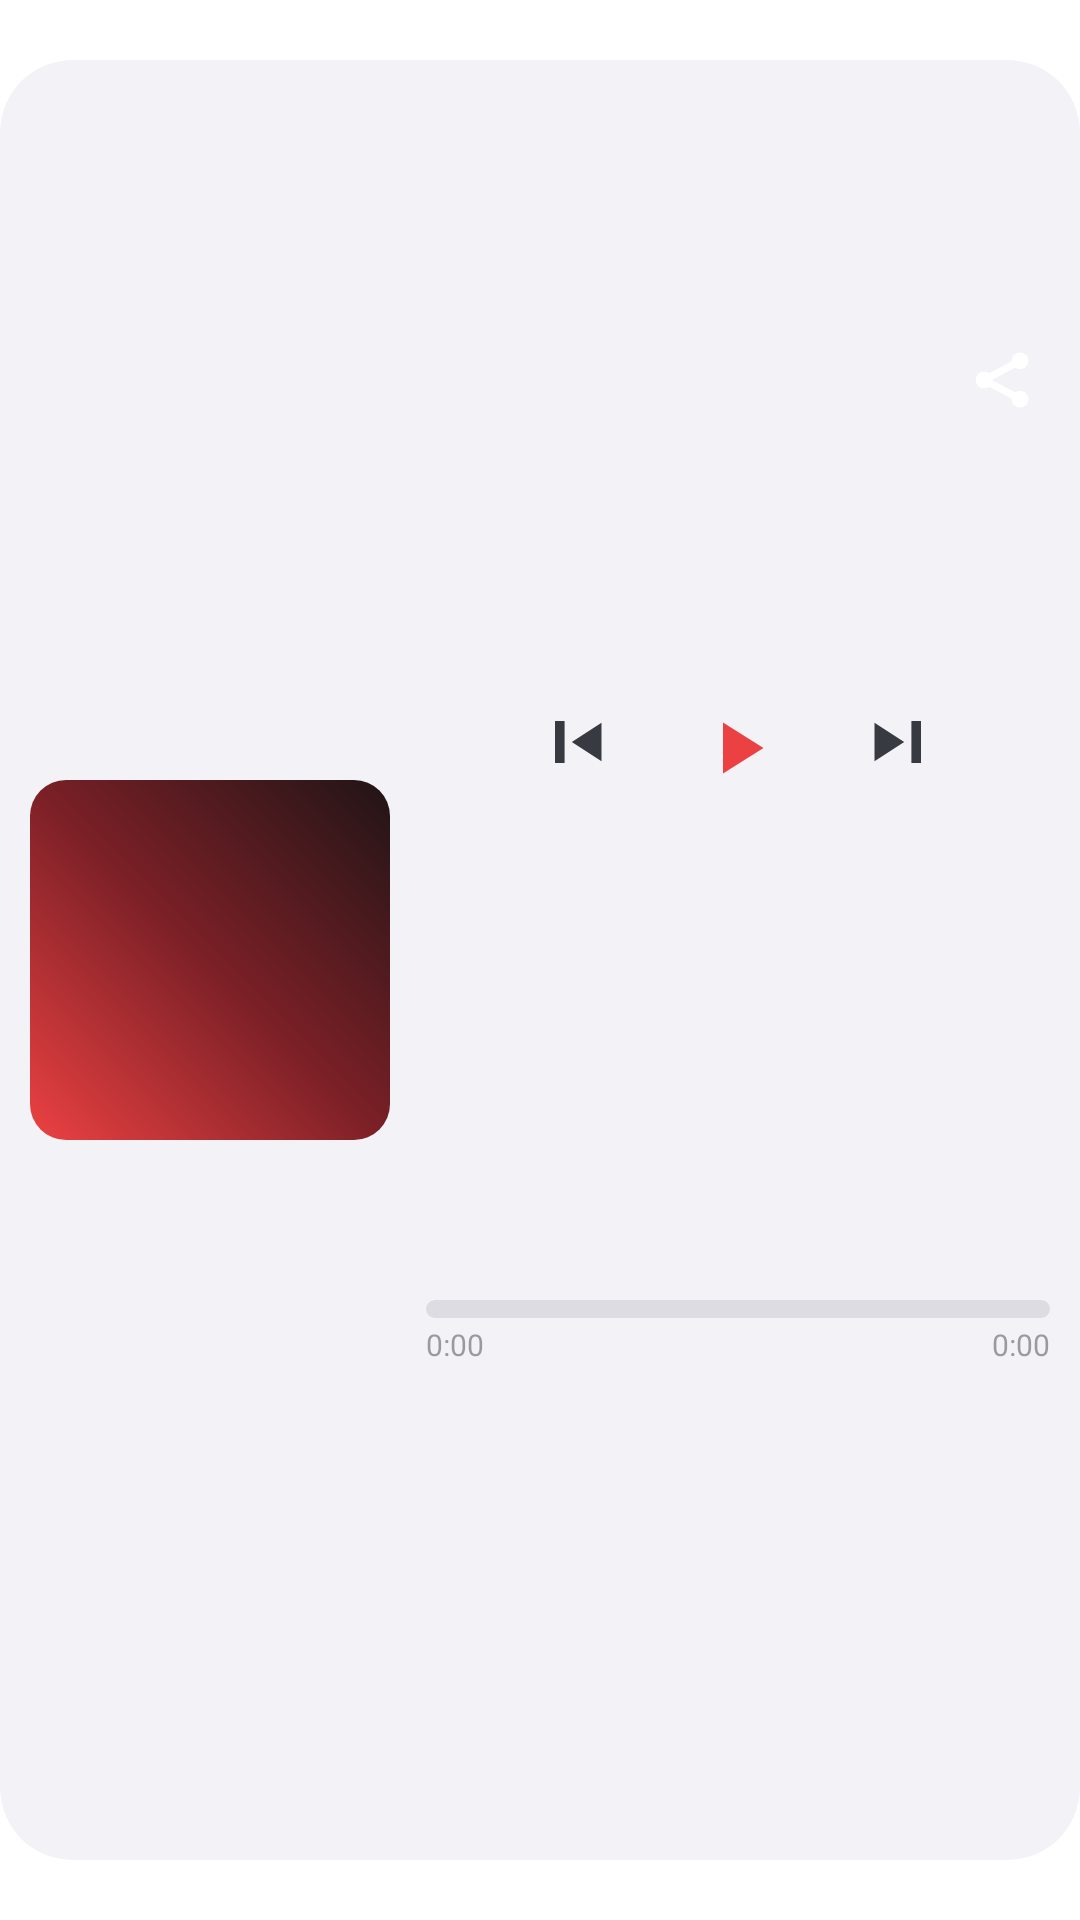

Locate icon controls on the screen. Image size 1080w x 1920h, boxes as (x1, y1, x2, y2).
play: (723, 722, 763, 774)
skip next: (874, 721, 921, 763)
skip previous: (555, 721, 602, 763)
